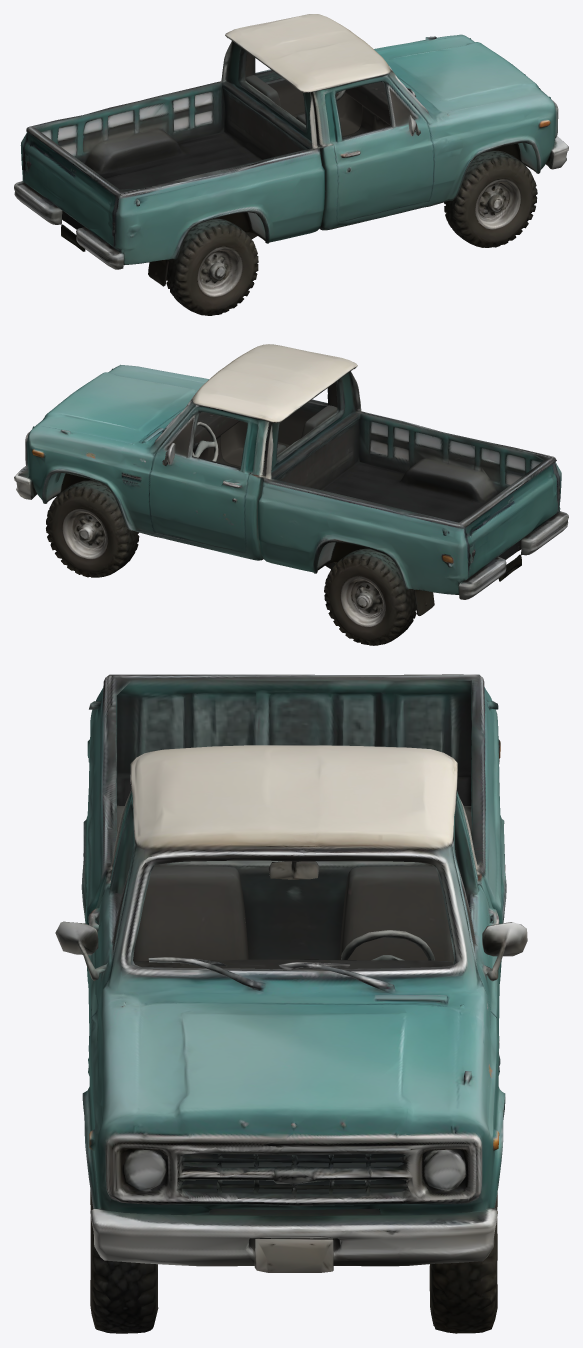
Rendered from pickup.glb.
The picture shows the model from 3 angles, top to bottom: view 1: azimuth 30°, elevation 25°; view 2: azimuth 150°, elevation 25°; view 3: azimuth 270°, elevation 25°; orthographic projection. The views are drawn at different scales.
Visible parts, largest first — view 1: tripo_node_abaae0dd-f079-4224-9996-9f68fb2c728b; view 2: tripo_node_abaae0dd-f079-4224-9996-9f68fb2c728b; view 3: tripo_node_abaae0dd-f079-4224-9996-9f68fb2c728b.
Part boxes in pixels (x1,y1,x2,y2): tripo_node_abaae0dd-f079-4224-9996-9f68fb2c728b: (14,14,568,315); tripo_node_abaae0dd-f079-4224-9996-9f68fb2c728b: (14,344,568,645); tripo_node_abaae0dd-f079-4224-9996-9f68fb2c728b: (55,674,527,1333).
Size of the model in its own units: 1 by 0.4194 by 0.4406.
1 material, 1 textured.
